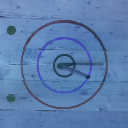Axe Tip: (62, 62, 73, 65)
